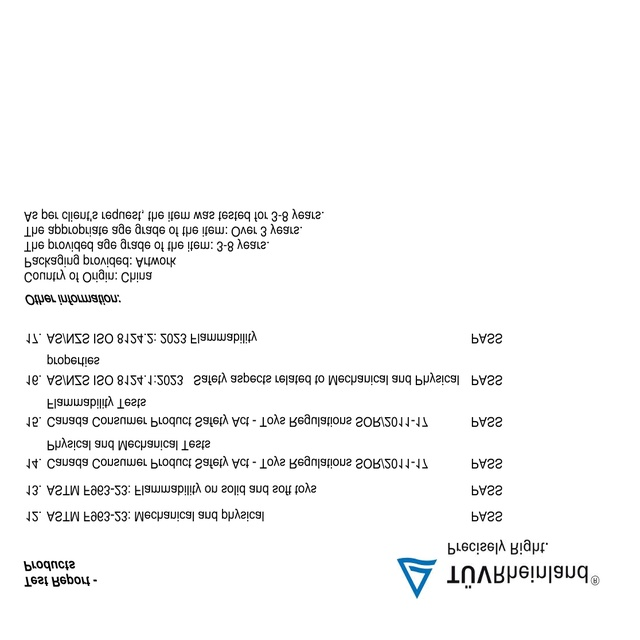tuv_rheinland: (395, 552, 602, 597)
